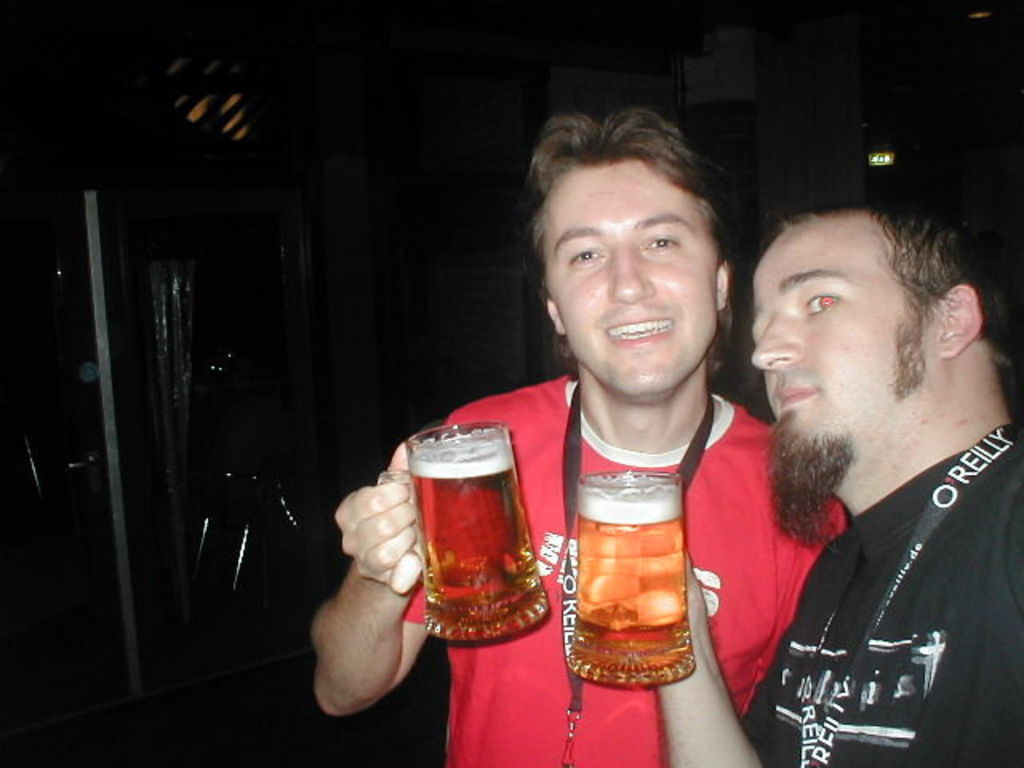Beer: (401, 428, 545, 644), (574, 471, 691, 681)
